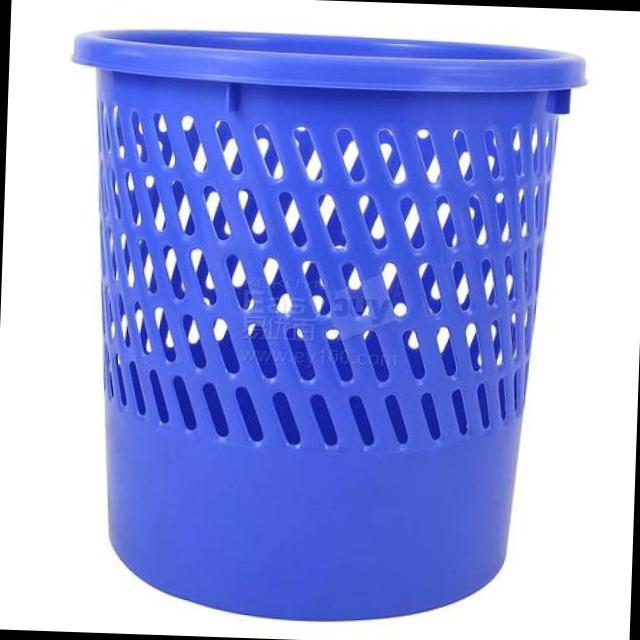dustbin: (43, 17, 593, 632)
